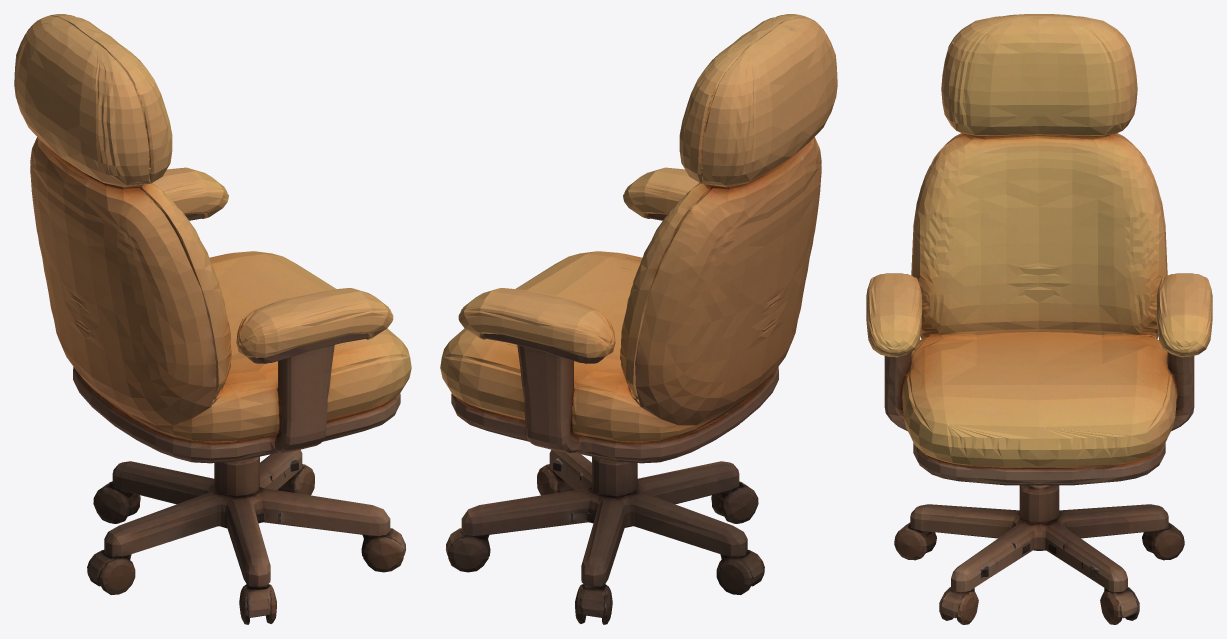
Rendered from cozycomputerchair.glb.
The picture shows the model from 3 angles, left to right: view 1: azimuth 30°, elevation 25°; view 2: azimuth 150°, elevation 25°; view 3: azimuth 270°, elevation 25°; orthographic projection. The views are drawn at different scales.
Visible parts, largest first — view 1: tripo_node_93962808-9f5a-482f-bfc6-60b3559adb75; view 2: tripo_node_93962808-9f5a-482f-bfc6-60b3559adb75; view 3: tripo_node_93962808-9f5a-482f-bfc6-60b3559adb75.
Part boxes in pixels (x1,y1,x2,y2): tripo_node_93962808-9f5a-482f-bfc6-60b3559adb75: [14, 14, 411, 624]; tripo_node_93962808-9f5a-482f-bfc6-60b3559adb75: [440, 14, 837, 624]; tripo_node_93962808-9f5a-482f-bfc6-60b3559adb75: [866, 14, 1212, 624].
Bounding box in the file's own units: 0.5871 × 1 × 0.6321.
1 material, 1 textured.
